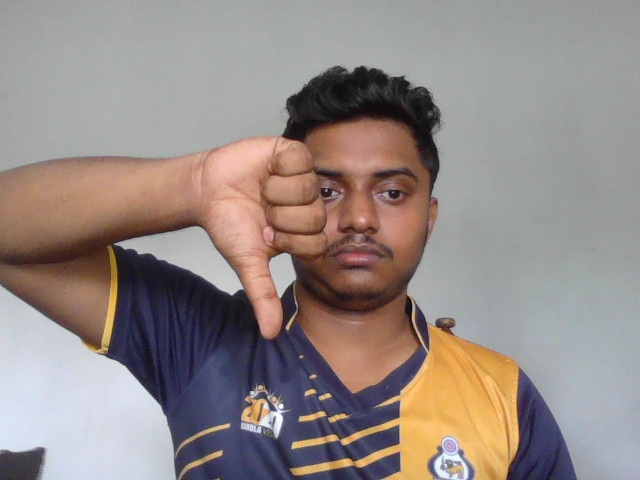Disagree: (199, 135, 331, 343)
